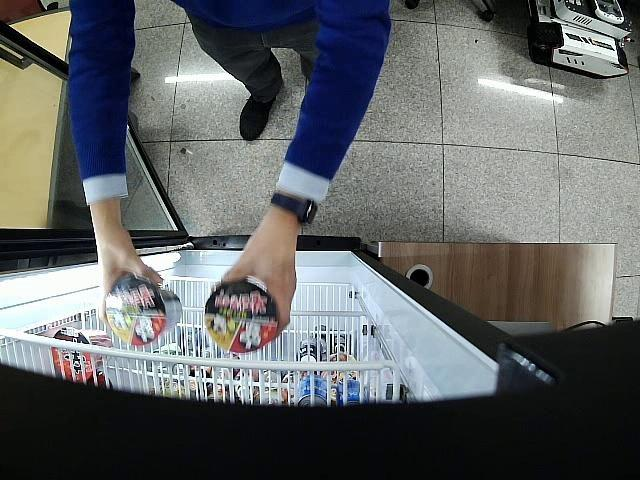08_buldak_S: (204, 281, 278, 352), (106, 278, 182, 346)
